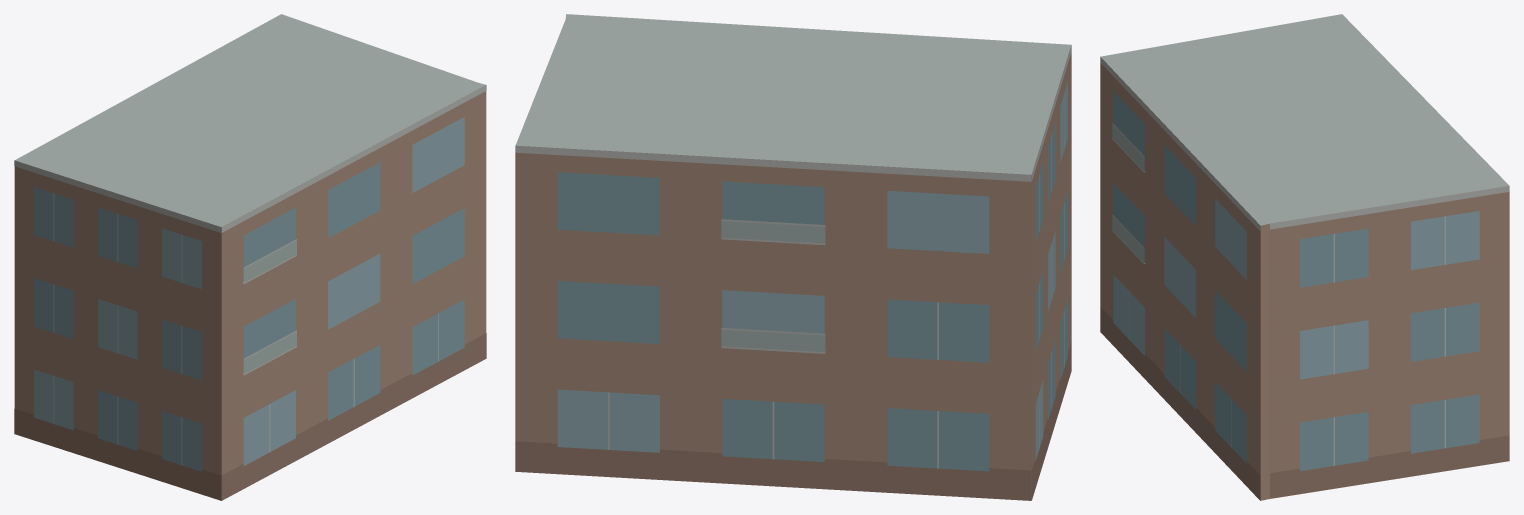
The model's file is survey-upis-32844063.glb.
3 views of the same model, side by side, from view 1: azimuth 30°, elevation 25°; view 2: azimuth 150°, elevation 25°; view 3: azimuth 270°, elevation 25° (orthographic). The views are drawn at different scales.
Visible parts, largest first — view 1: survey-upis-32844063.tmp; view 2: survey-upis-32844063.tmp; view 3: survey-upis-32844063.tmp.
Boxes of the visible parts, <box> form: survey-upis-32844063.tmp: <box>14,14,486,500</box>; survey-upis-32844063.tmp: <box>515,14,1071,500</box>; survey-upis-32844063.tmp: <box>1100,14,1509,500</box>.
Bounding box in the file's own units: 18.64 × 11.3 × 15.24.
